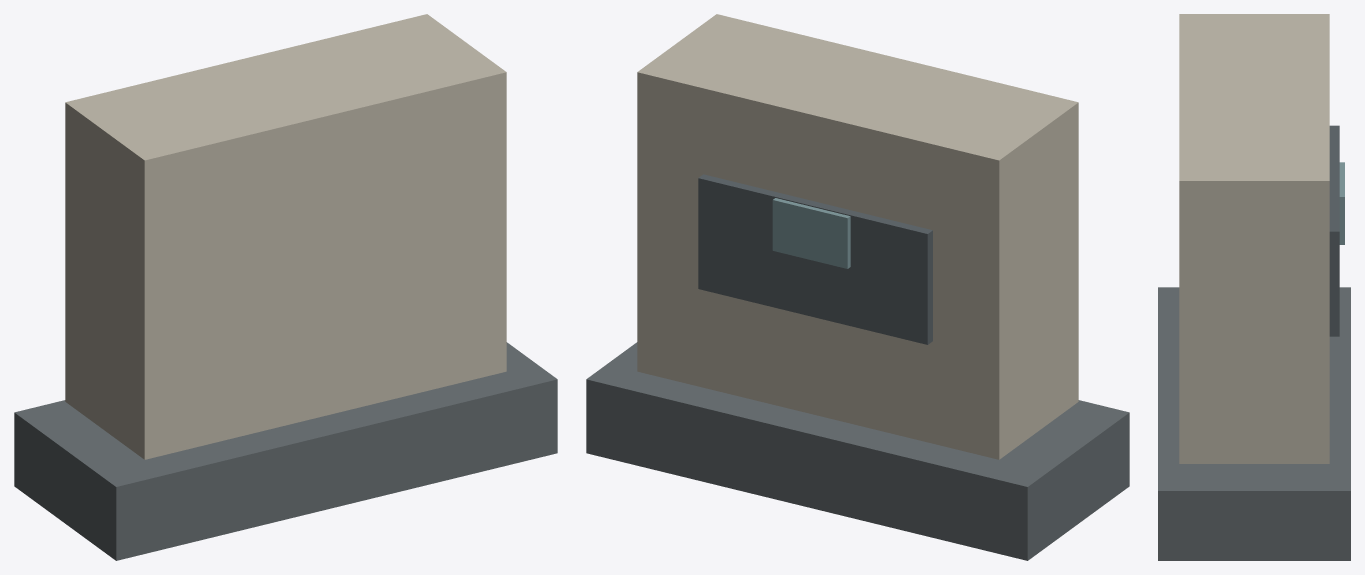
File: iz3_military_infirmary_01.glb
3 renders of one model, left to right at view 1: azimuth 30°, elevation 25°; view 2: azimuth 150°, elevation 25°; view 3: azimuth 270°, elevation 25°, orthographic. The views are drawn at different scales.
Visible parts, largest first — view 1: cabinet, base; view 2: cabinet, base, panel, display; view 3: cabinet, base, panel, display.
Part boxes in pixels (x1,y1,x2,y2): cabinet: (65,14,506,459); base: (14,342,557,560); cabinet: (637,14,1078,459); base: (586,342,1129,560); panel: (698,174,932,344); display: (772,198,850,268); cabinet: (1179,14,1329,463); base: (1158,287,1350,560); panel: (1329,125,1339,336); display: (1339,162,1344,244).
Bounding box in the file's own units: 2 × 1.66 × 0.8.
